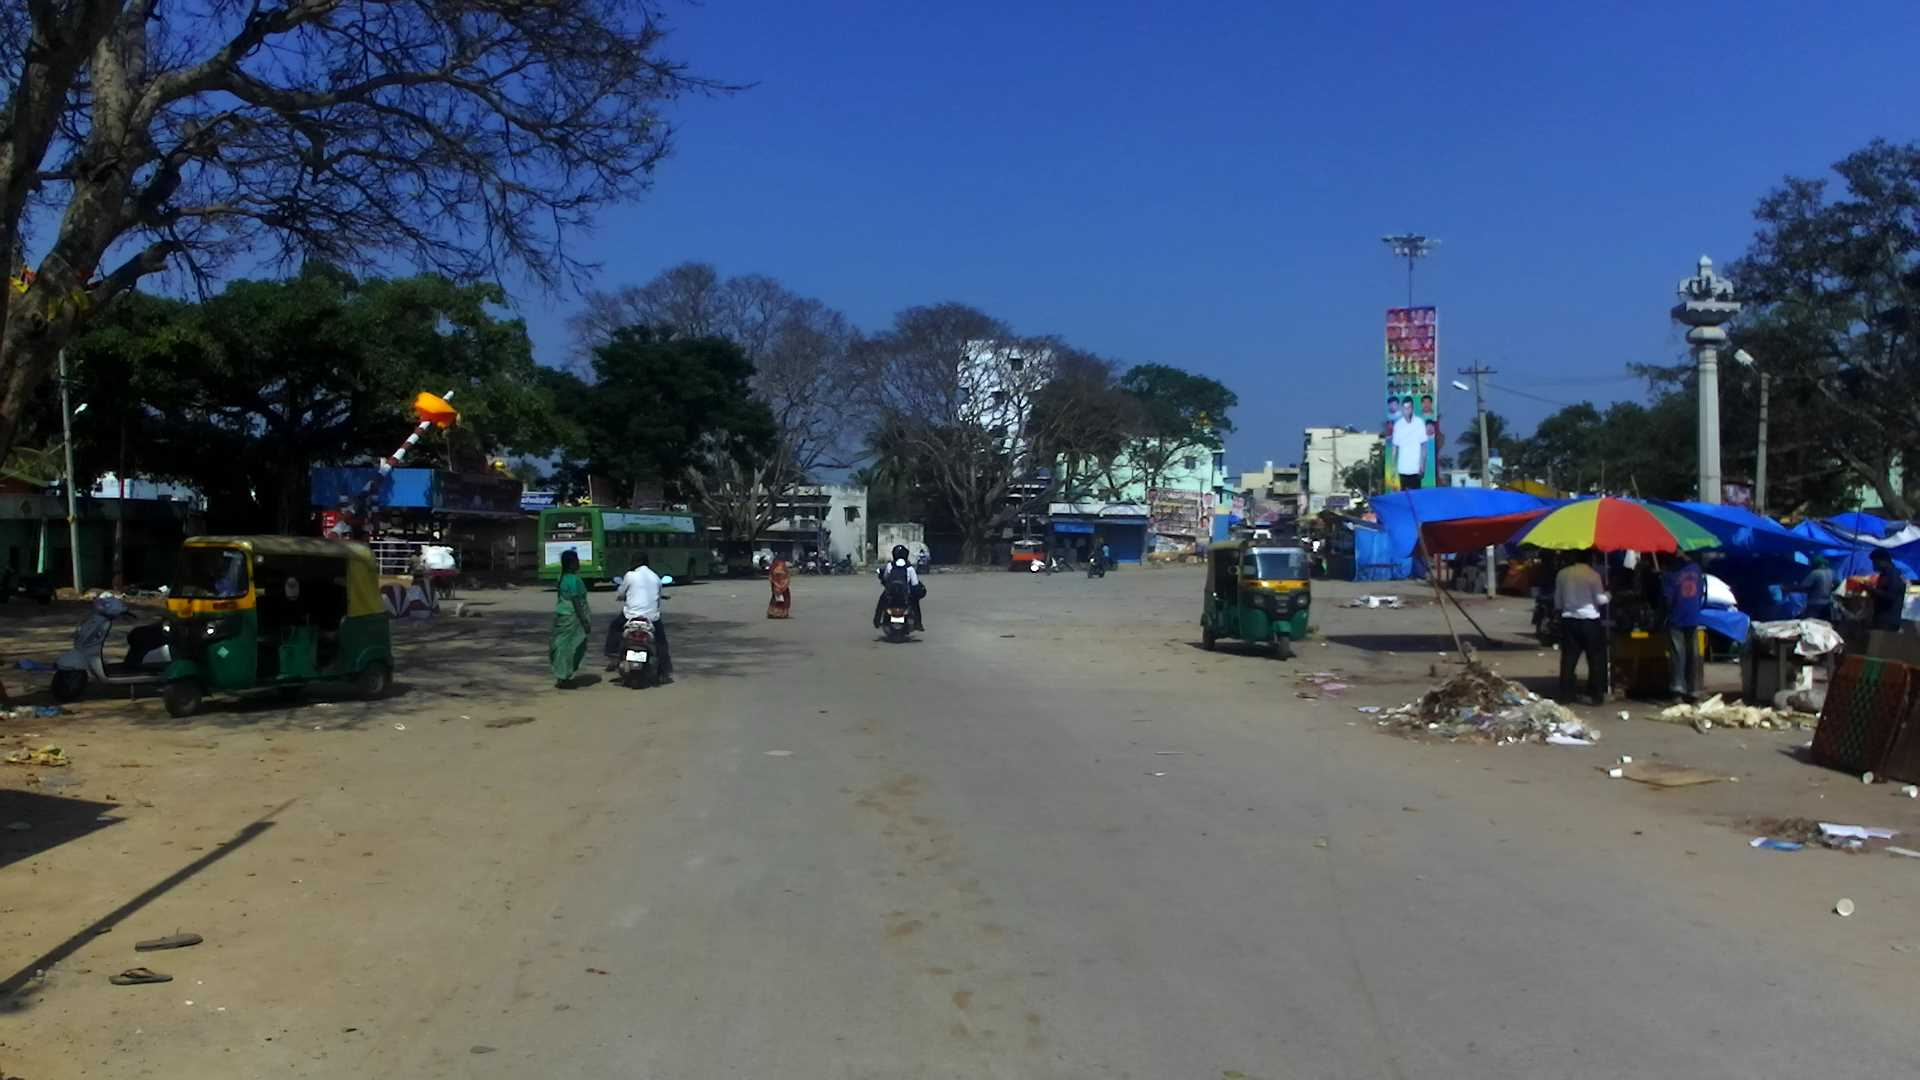bike: (41, 579, 167, 711), (597, 530, 684, 712), (872, 534, 947, 657), (1073, 524, 1124, 601), (1021, 541, 1071, 589)
